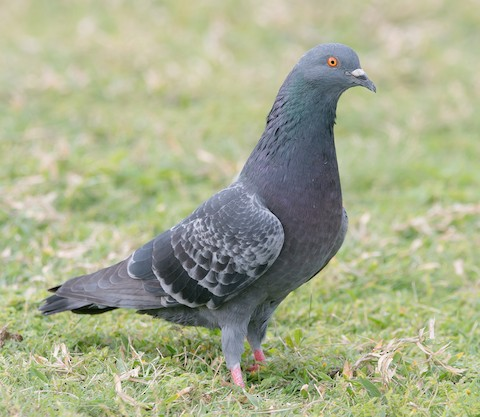pigeon: (36, 43, 381, 403)
